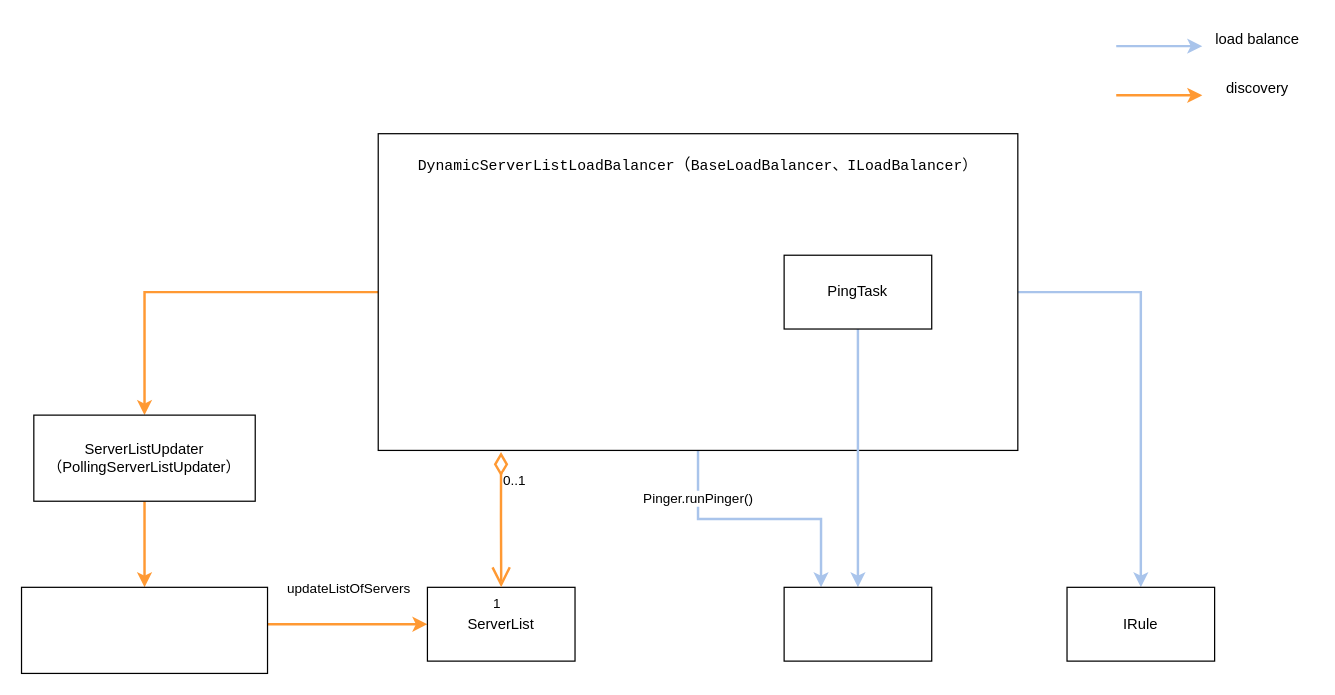
This 1335x695 diagram has some shape labels left out. The centre of each missing label's shape, as x and y in pixels:
IPing: the point at 857,623
ServerListUpdater.UpdateAction: the point at 144,629
